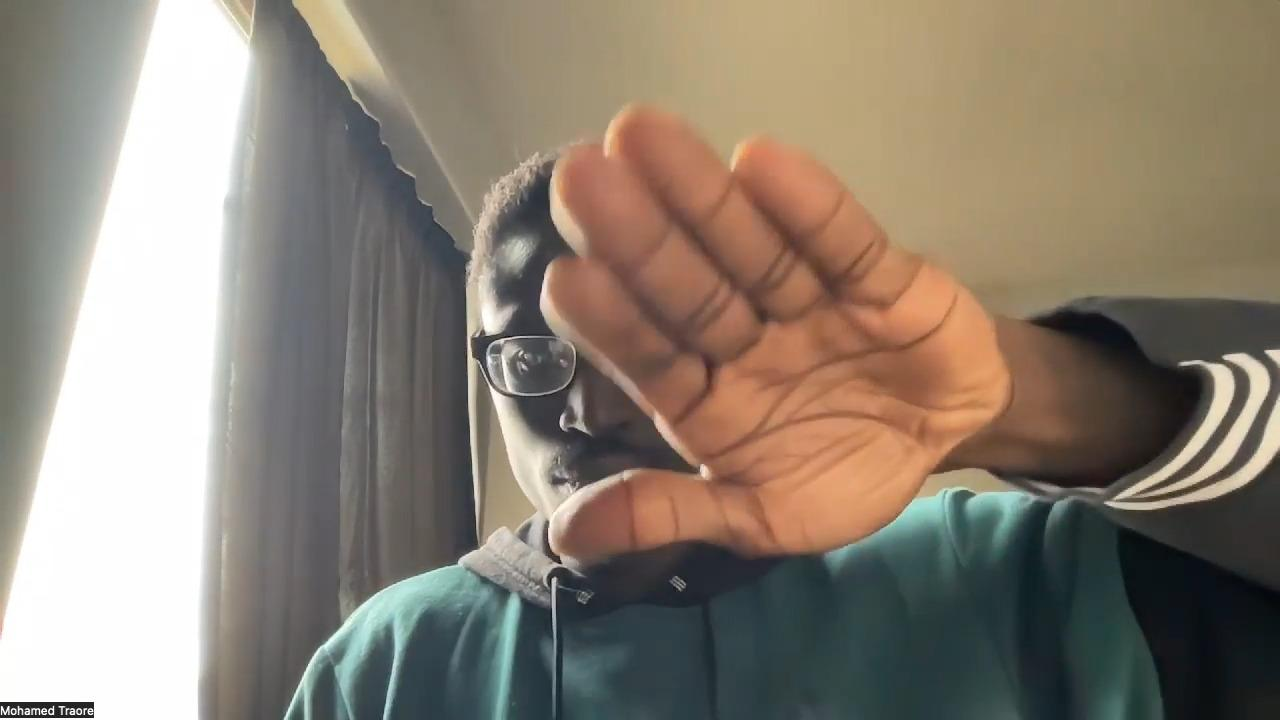Paper: (540, 103, 1012, 563)
